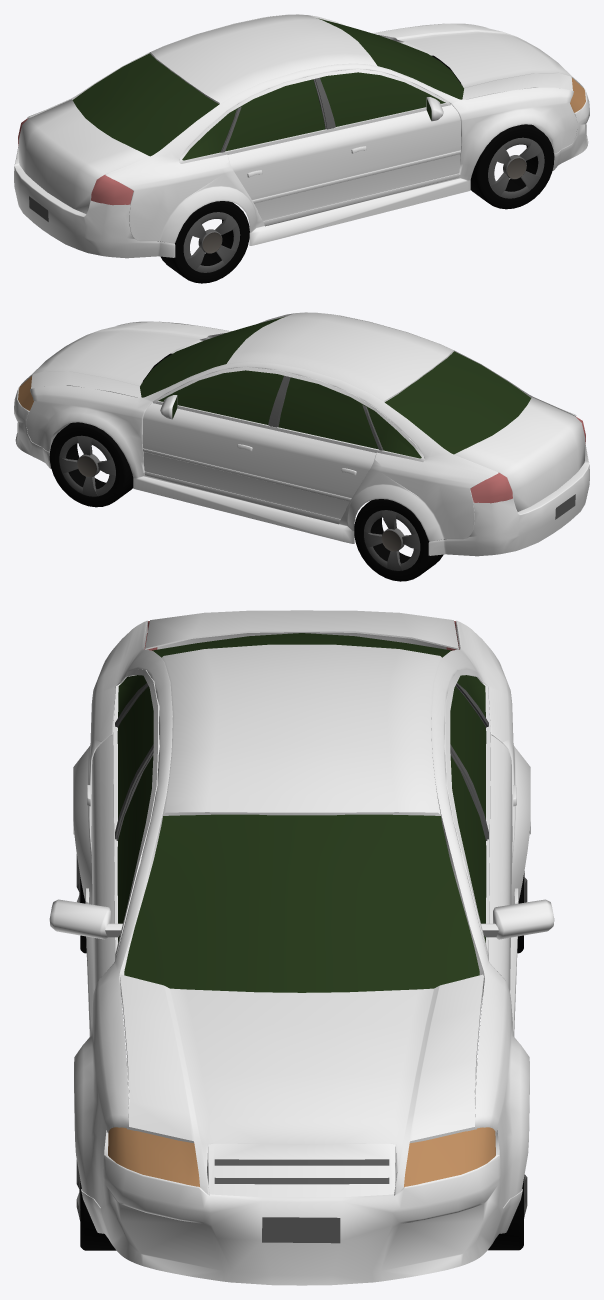
Rendered from car1.glb.
3 views of the same model, one above another, from view 1: azimuth 30°, elevation 25°; view 2: azimuth 150°, elevation 25°; view 3: azimuth 270°, elevation 25° (orthographic). The views are drawn at different scales.
Parts seen in each view (by area): view 1: ~??_19_materialGroup_7, obj5~??_19_materialGroup_5, obj32~Material__32_materialGroup_9, ~_____21_materialGroup_15, ~??_10_materialGroup_12, obj0~??_5_materialGroup_0, obj3~??_15_materialGroup_3, obj2~??_2_materialGroup_2; view 2: ~??_19_materialGroup_7, obj32~Material__32_materialGroup_9, ~_____21_materialGroup_15, obj5~??_19_materialGroup_5, ~??_10_materialGroup_12, obj4~??_5_materialGroup_4, obj3~??_15_materialGroup_3, ~??_22_materialGroup_14, obj1~??_2_materialGroup_1; view 3: ~??_19_materialGroup_7, obj32~Material__32_materialGroup_9, obj5~??_19_materialGroup_5, ~??_9_materialGroup_6, obj2~??_2_materialGroup_2, obj1~??_2_materialGroup_1, ~??_15_materialGroup_8, ~_____21_materialGroup_15, obj33~??_15_materialGroup_10, obj3~??_15_materialGroup_3.
Part boxes in pixels (x1,y1,x2,y2): ~??_19_materialGroup_7: (14,14,589,258); obj5~??_19_materialGroup_5: (105,49,577,245); obj32~Material__32_materialGroup_9: (72,18,463,160); ~_____21_materialGroup_15: (158,55,554,283); ~??_10_materialGroup_12: (183,137,544,272); obj0~??_5_materialGroup_0: (91,174,133,205); obj3~??_15_materialGroup_3: (220,77,335,152); obj2~??_2_materialGroup_2: (570,78,585,112); ~??_19_materialGroup_7: (14,312,589,556); obj32~Material__32_materialGroup_9: (140,316,531,458); ~_____21_materialGroup_15: (49,353,444,581); obj5~??_19_materialGroup_5: (69,312,576,475); ~??_10_materialGroup_12: (59,435,420,570); obj4~??_5_materialGroup_4: (470,472,512,503); obj3~??_15_materialGroup_3: (268,375,383,450); ~??_22_materialGroup_14: (77,456,401,551); obj1~??_2_materialGroup_1: (18,376,33,410); ~??_19_materialGroup_7: (73,610,530,1285); obj32~Material__32_materialGroup_9: (117,633,486,992); obj5~??_19_materialGroup_5: (49,620,554,1207); ~??_9_materialGroup_6: (208,1143,395,1197); obj2~??_2_materialGroup_2: (108,1127,199,1187); obj1~??_2_materialGroup_1: (404,1127,495,1187); ~??_15_materialGroup_8: (214,1159,389,1184); ~_____21_materialGroup_15: (80,875,523,1250); obj33~??_15_materialGroup_10: (262,1217,340,1243); obj3~??_15_materialGroup_3: (115,683,488,840).
Bounding box in the file's own units: 6.43 × 1.99 × 2.65.
